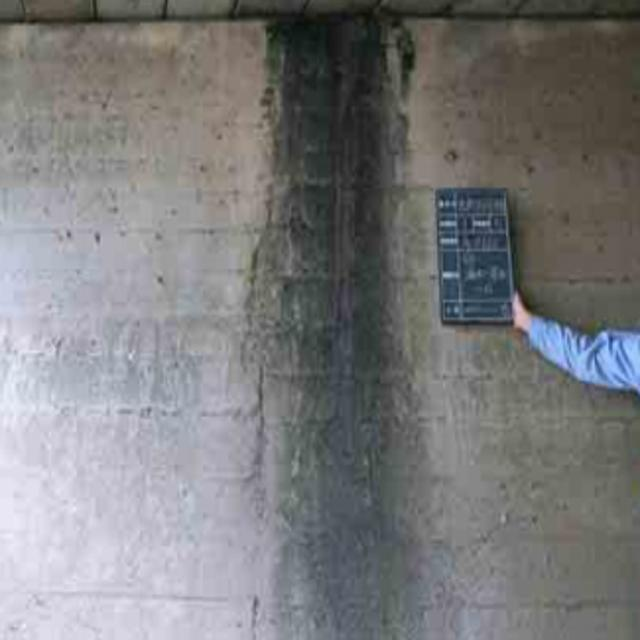leakage: (247, 14, 437, 637)
